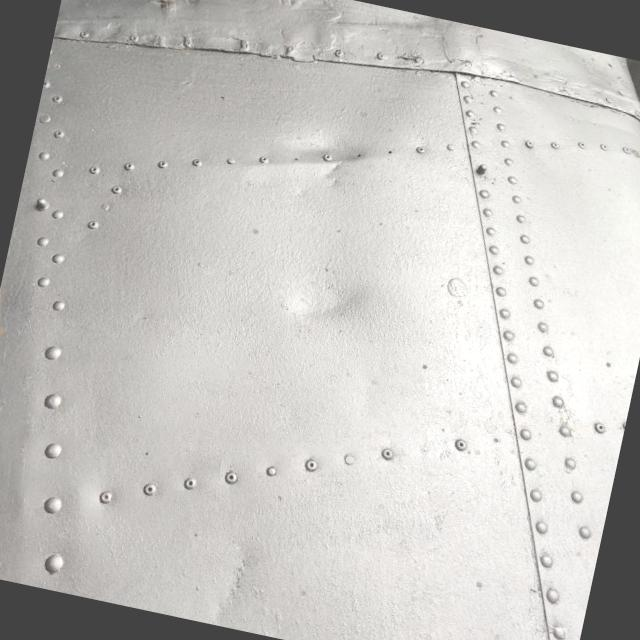dent: (276, 237, 396, 357), (256, 102, 384, 210)
